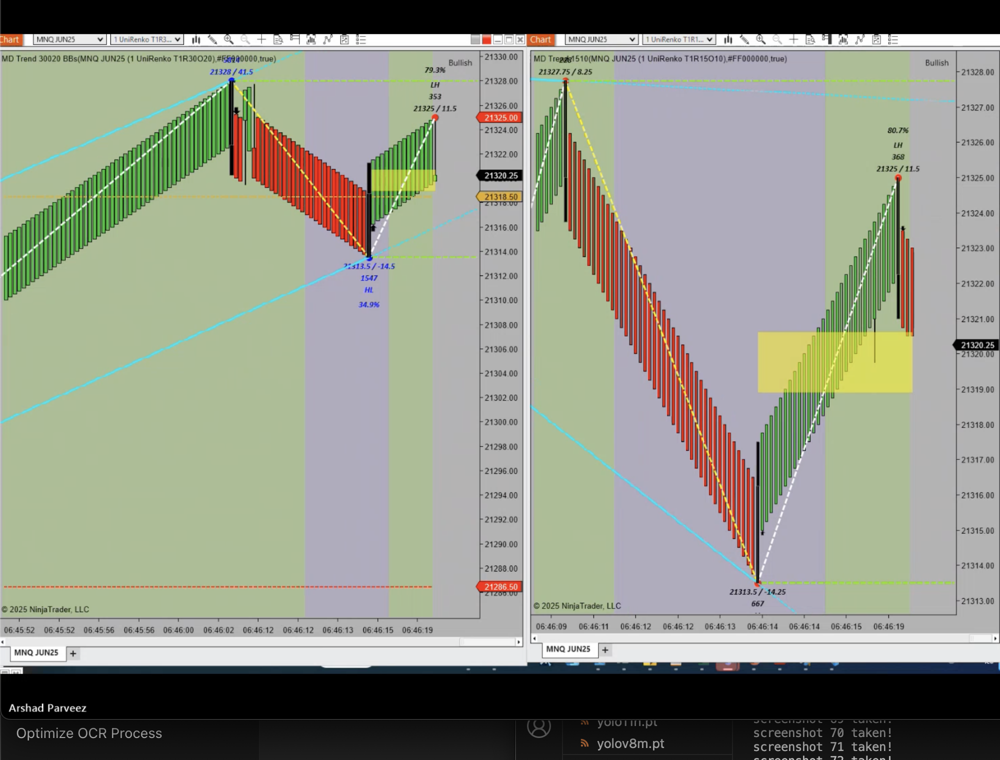HL: (357, 283, 380, 297)
LH: (886, 138, 910, 152), (427, 78, 447, 93)
